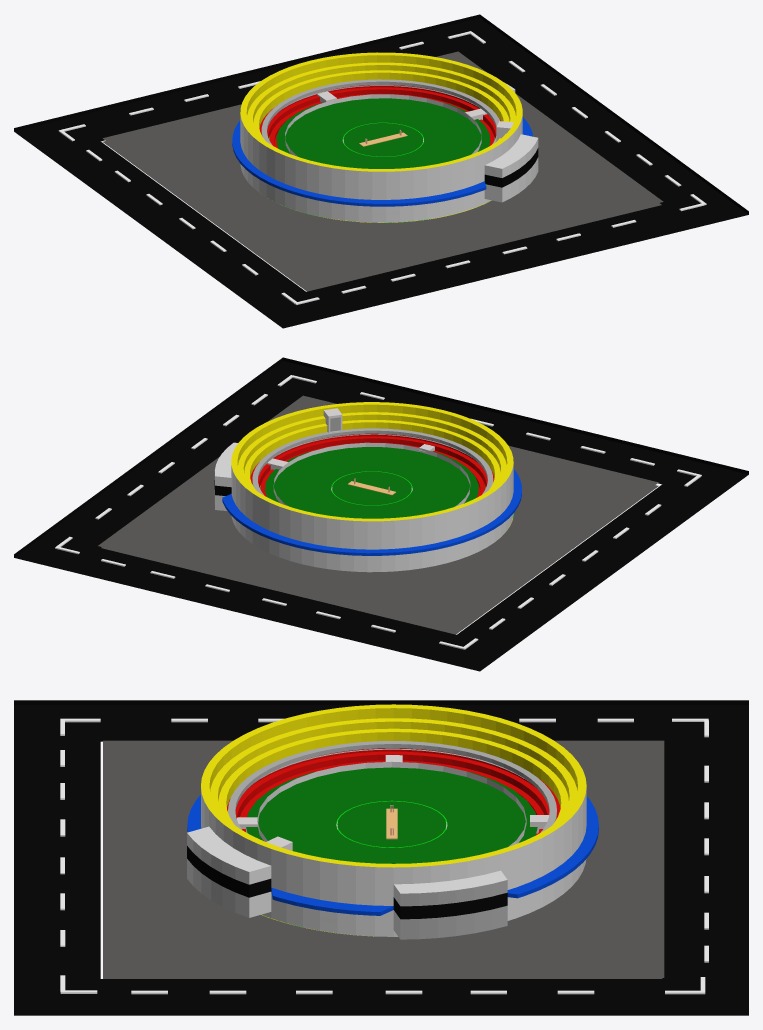
Rendered from Cricket Stadium.fbx.
3 renders of one model, top to bottom at view 1: azimuth 30°, elevation 25°; view 2: azimuth 150°, elevation 25°; view 3: azimuth 270°, elevation 25°, orthographic. The views are drawn at different scales.
Visible parts, largest first — view 1: Road, Base Floor, Stadium, Field, Playing area Boundries; view 2: Road, Base Floor, Stadium, Field, Playing area Boundries; view 3: Road, Base Floor, Stadium, Field, Playing area Boundries.
Boxes of the visible parts, bbox=[...] form: Road: bbox=[14, 14, 748, 328]; Base Floor: bbox=[102, 51, 663, 291]; Stadium: bbox=[232, 52, 538, 222]; Field: bbox=[276, 98, 490, 168]; Playing area Boundries: bbox=[285, 94, 481, 156]; Road: bbox=[14, 357, 748, 671]; Base Floor: bbox=[98, 395, 658, 634]; Stadium: bbox=[214, 402, 521, 572]; Field: bbox=[265, 447, 478, 518]; Playing area Boundries: bbox=[273, 442, 470, 506]; Road: bbox=[14, 700, 748, 1015]; Base Floor: bbox=[103, 740, 664, 978]; Stadium: bbox=[187, 704, 598, 939]; Field: bbox=[246, 767, 537, 863]; Playing area Boundries: bbox=[257, 761, 526, 846].
Size of the model in its own units: 3143 by 375 by 3143.
